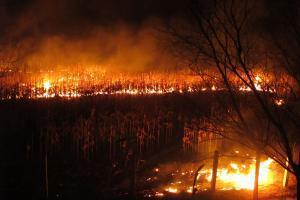fire: (8, 66, 285, 95), (144, 150, 287, 198)
